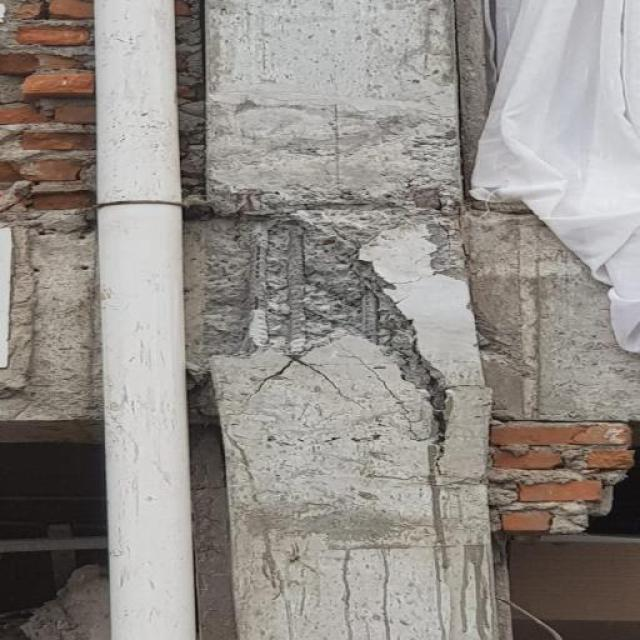D0w0: (205, 184, 462, 419)
